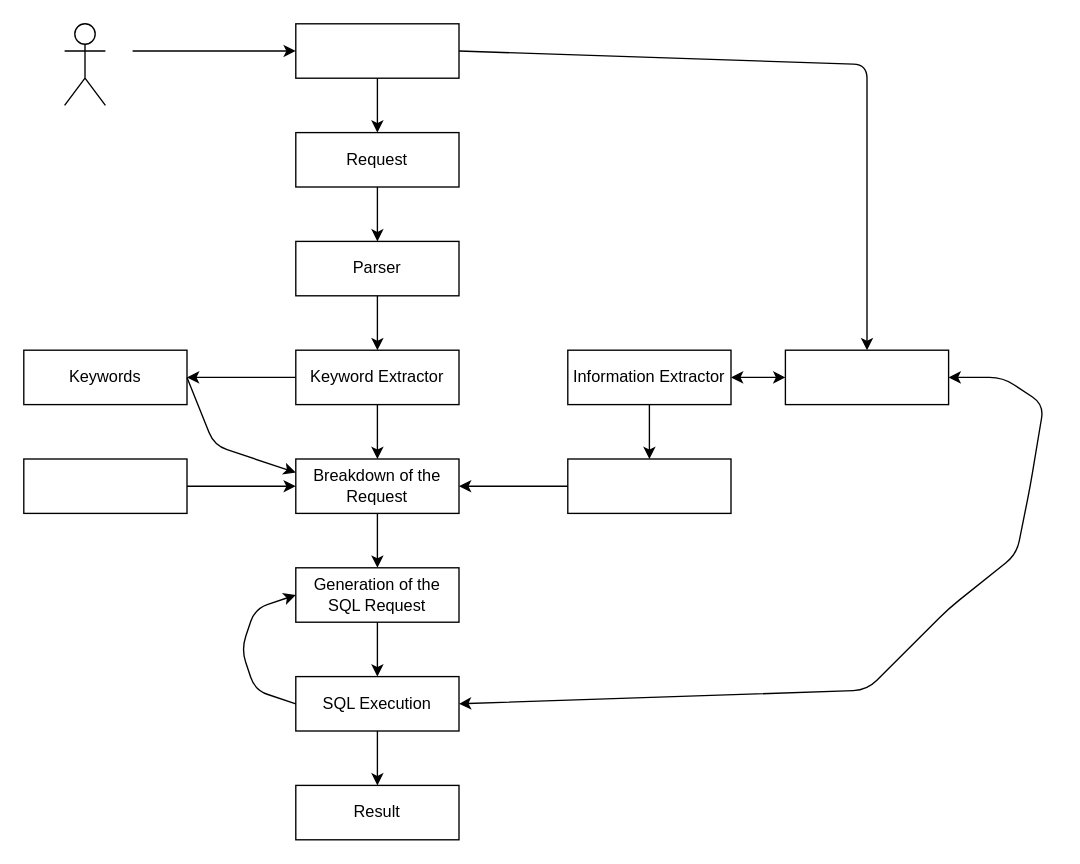
This 1080x864 diagram has some shape labels left out. Here are the shapes that lost their labels. From the top down, the box of each, then its label:
(63, 22, 105, 105): User
(294, 22, 459, 78): Database Selection
(784, 349, 949, 405): Database
(22, 458, 187, 513): Thesaurus
(566, 458, 731, 513): Schema
